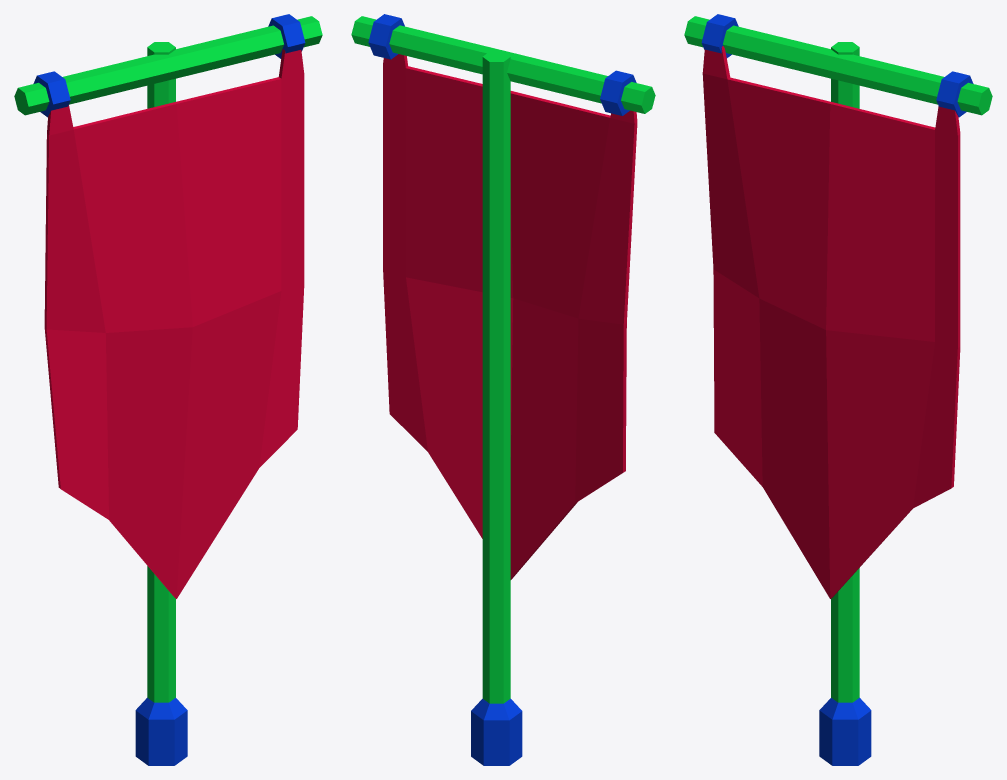
Rendered from SM_Banner_02.fbx.
3 views of the same model, side by side, from view 1: azimuth 30°, elevation 25°; view 2: azimuth 150°, elevation 25°; view 3: azimuth 330°, elevation 25° (orthographic).
Visible parts, largest first — view 1: SM_Banner_02; view 2: SM_Banner_02; view 3: SM_Banner_02.
Boxes of the visible parts, <box> form: SM_Banner_02: <box>14,14,322,765</box>; SM_Banner_02: <box>351,14,655,765</box>; SM_Banner_02: <box>684,14,992,765</box>.
Bounding box in the file's own units: 77.15 × 179 × 17.44.
